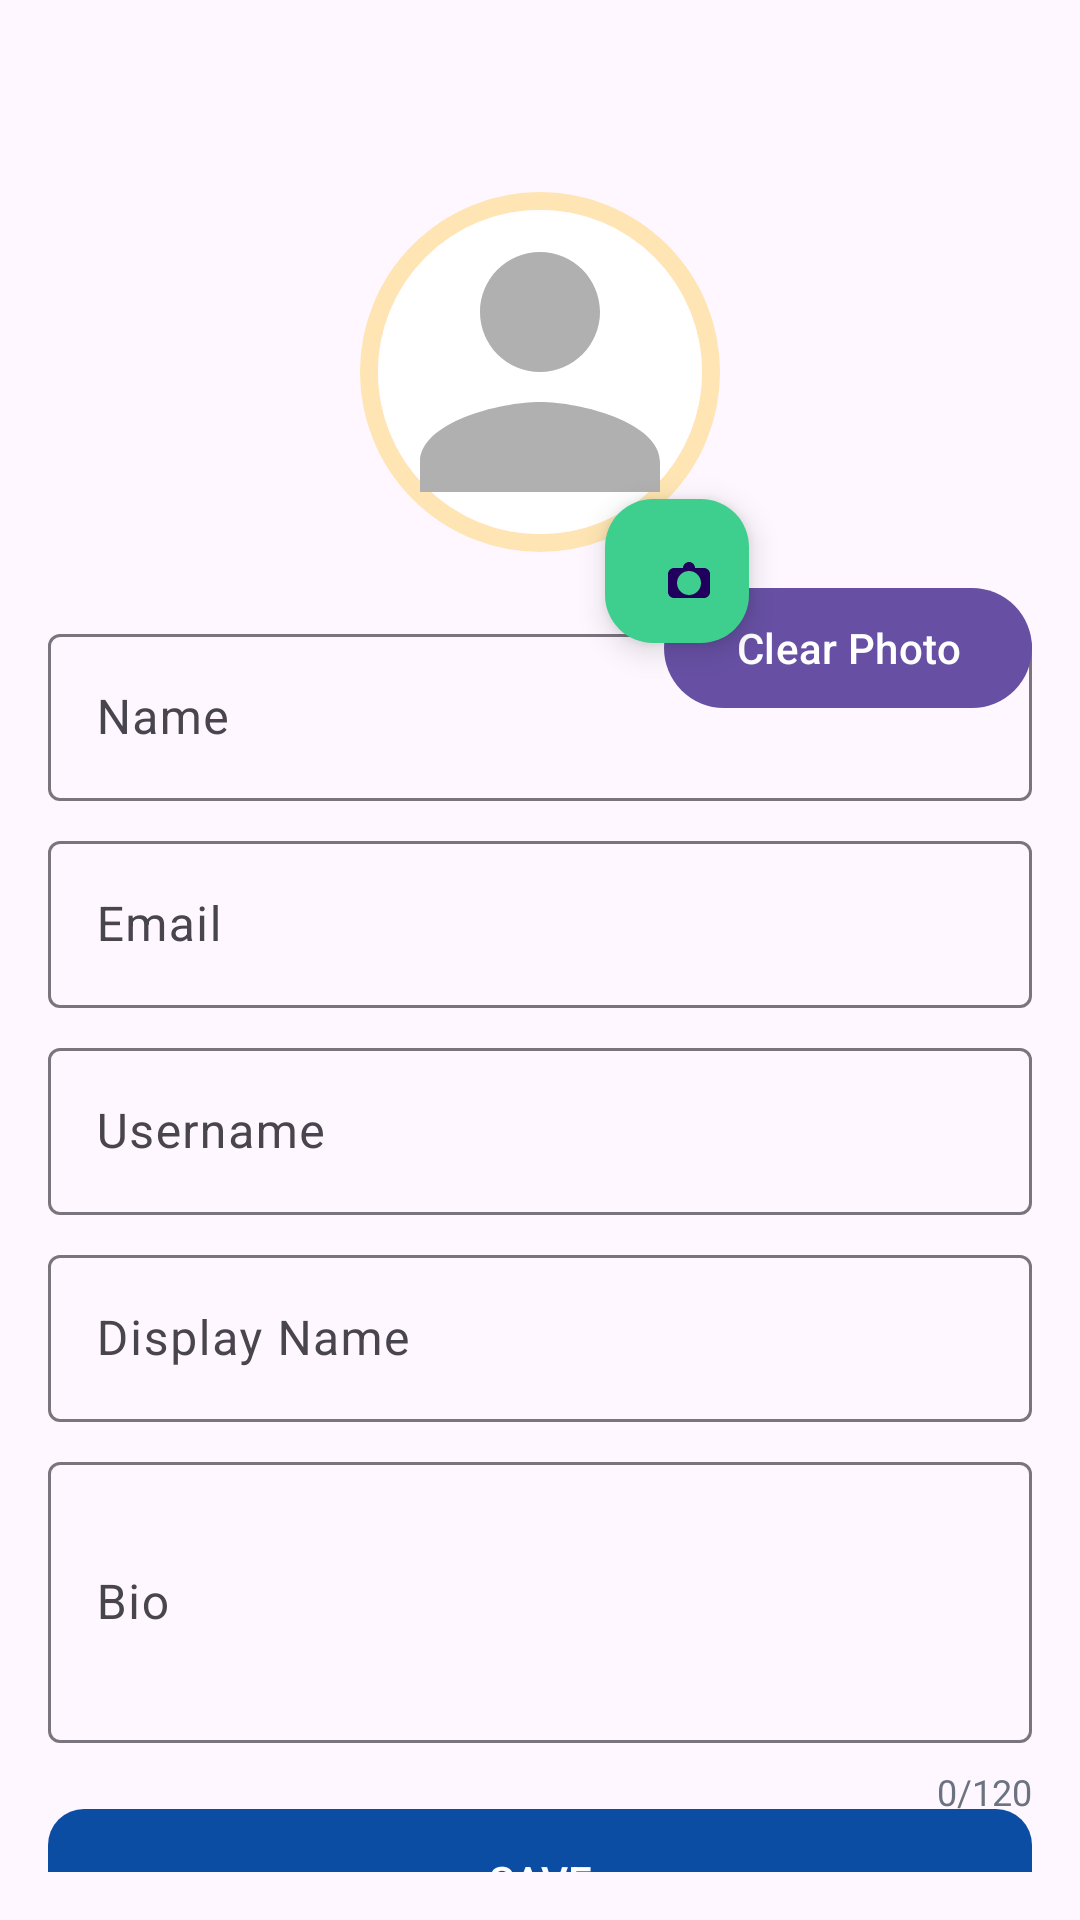

Icons on this 1080w x 1920h Android screen, each with the point to tap as (x,y):
camera: (677,571)
